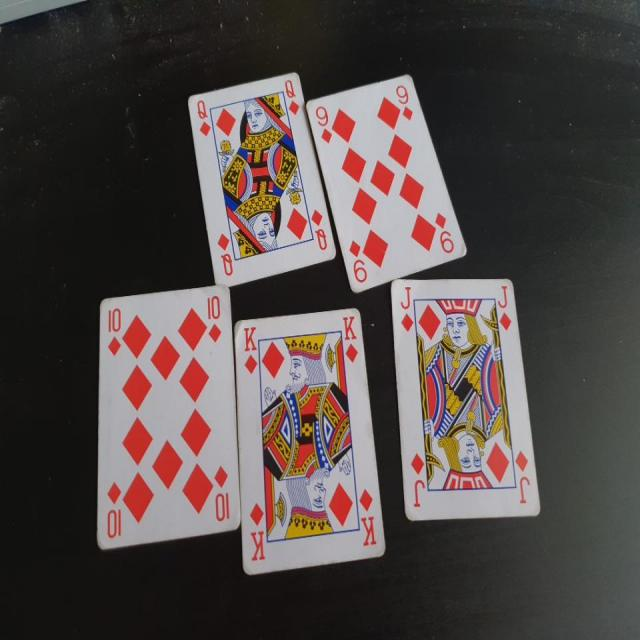10 Diamonds: (96, 282, 244, 549)
9 Diamonds: (304, 68, 468, 290)
J Diamonds: (390, 276, 542, 522)
K Diamonds: (233, 306, 389, 576)
Q Diamonds: (184, 73, 337, 286)
